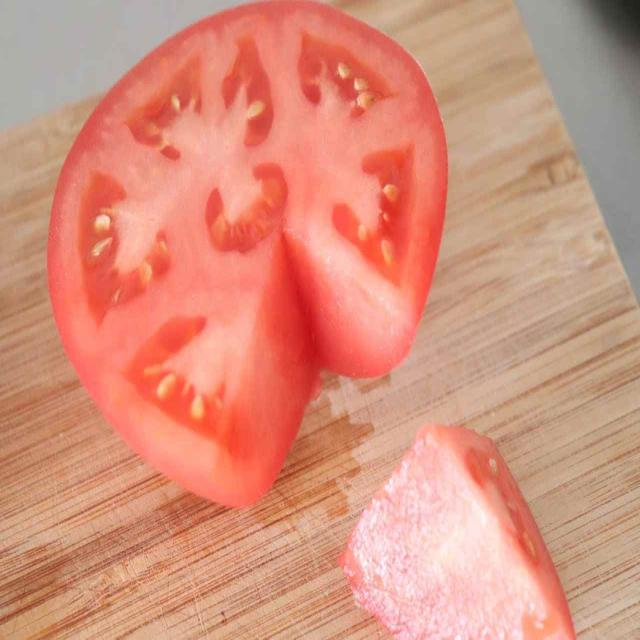Tomato: (35, 0, 451, 526), (337, 408, 580, 640)
